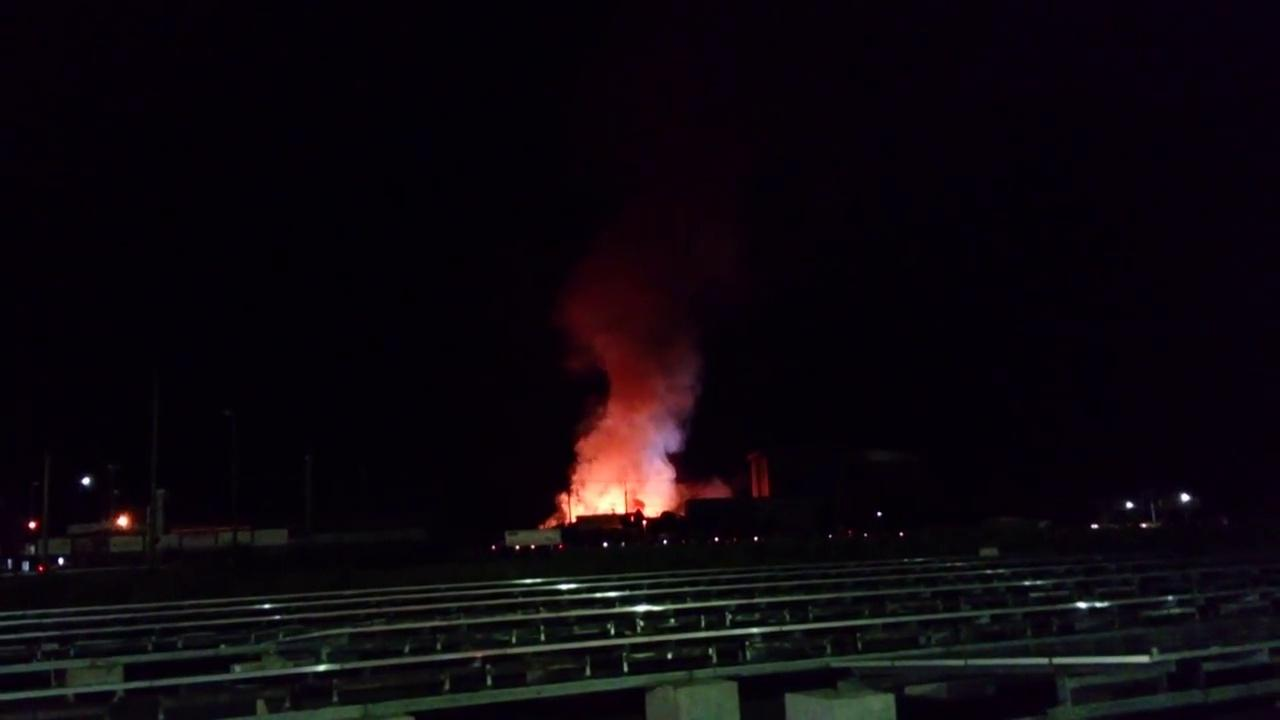fire: (592, 496, 660, 518)
smoke: (612, 344, 668, 454)
